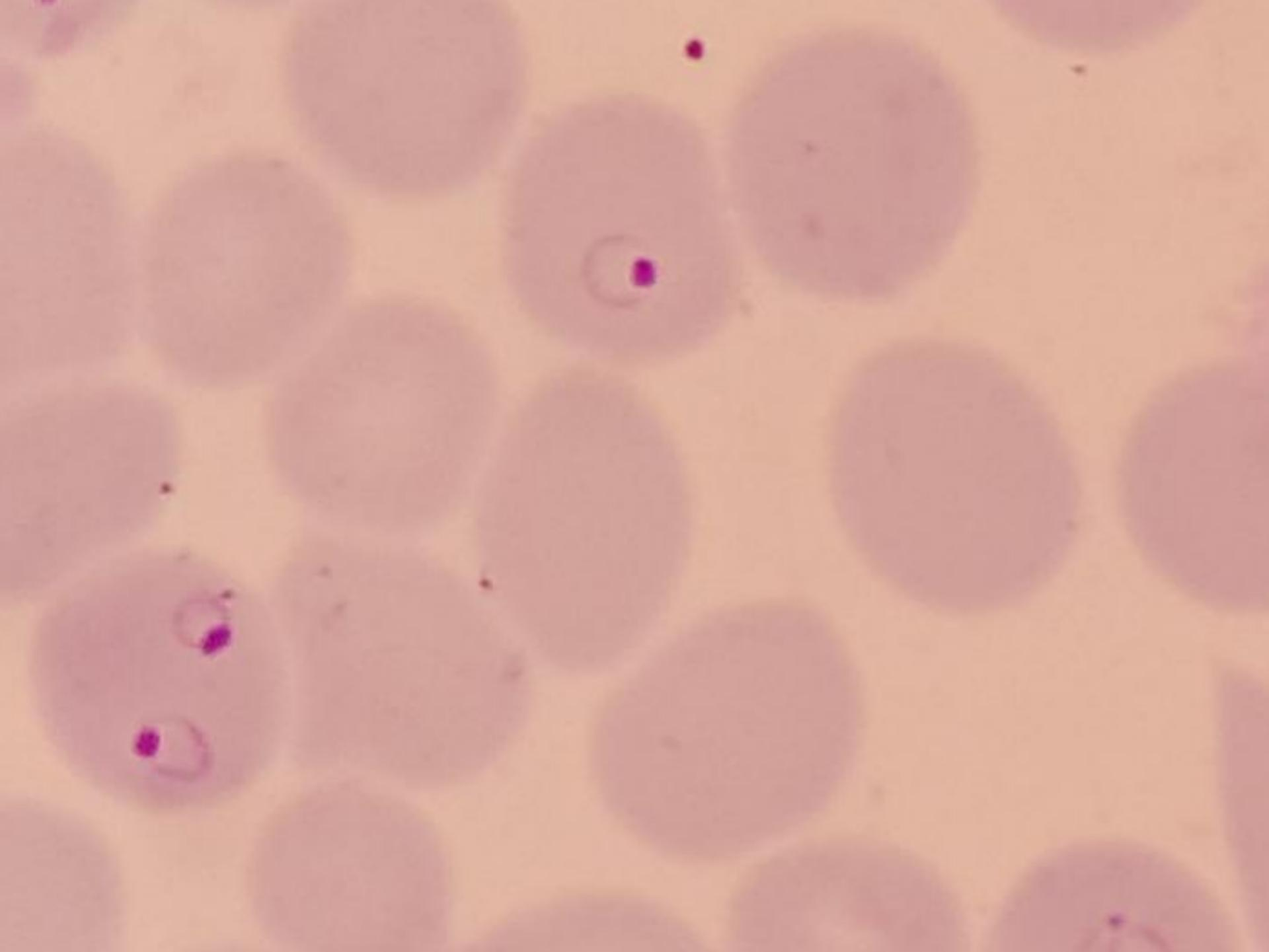Infected: (496, 91, 751, 357), (31, 550, 280, 805)
Uninfected: (828, 341, 1085, 614), (595, 610, 862, 859), (486, 357, 693, 673), (728, 33, 974, 295), (273, 537, 531, 780), (258, 293, 494, 540), (281, 0, 521, 203), (139, 154, 345, 385), (0, 375, 180, 594), (1112, 359, 1269, 610), (0, 137, 145, 392), (240, 782, 443, 952), (732, 833, 983, 952), (998, 846, 1239, 952)
